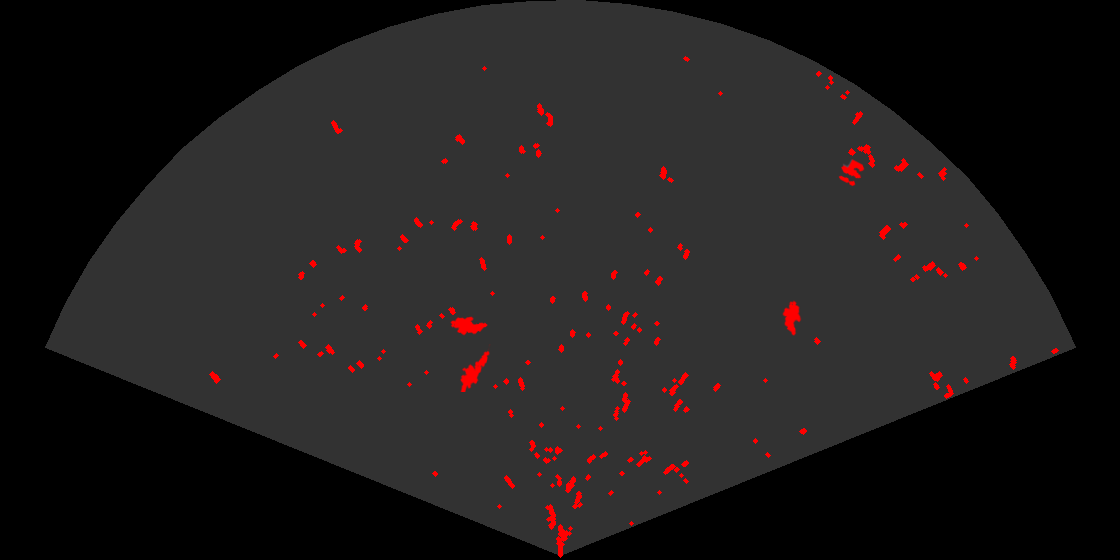AUV: (449, 315, 489, 337), (781, 299, 803, 337)
ball: (837, 158, 866, 188)
frogman: (459, 344, 492, 392)
